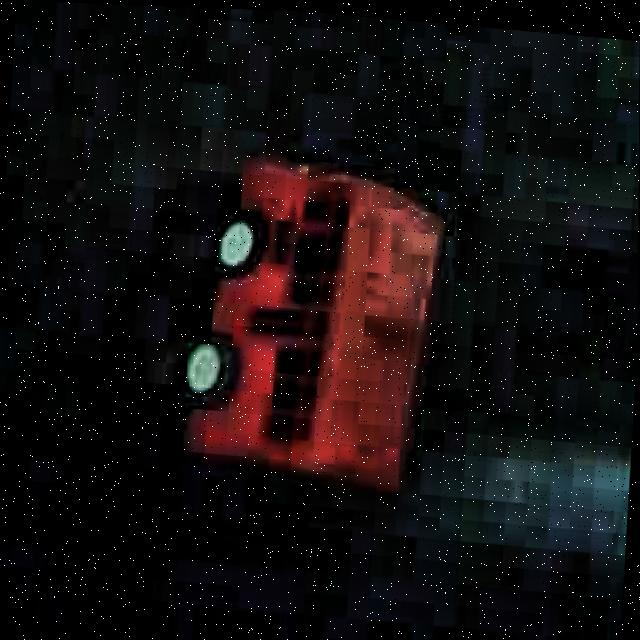bus: (163, 140, 453, 502)
